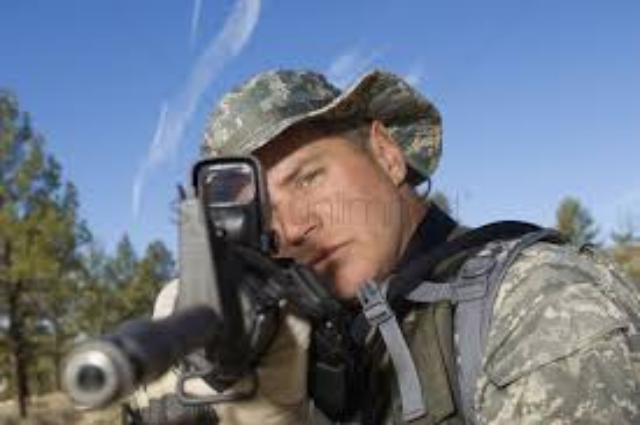other: (156, 64, 640, 423)
